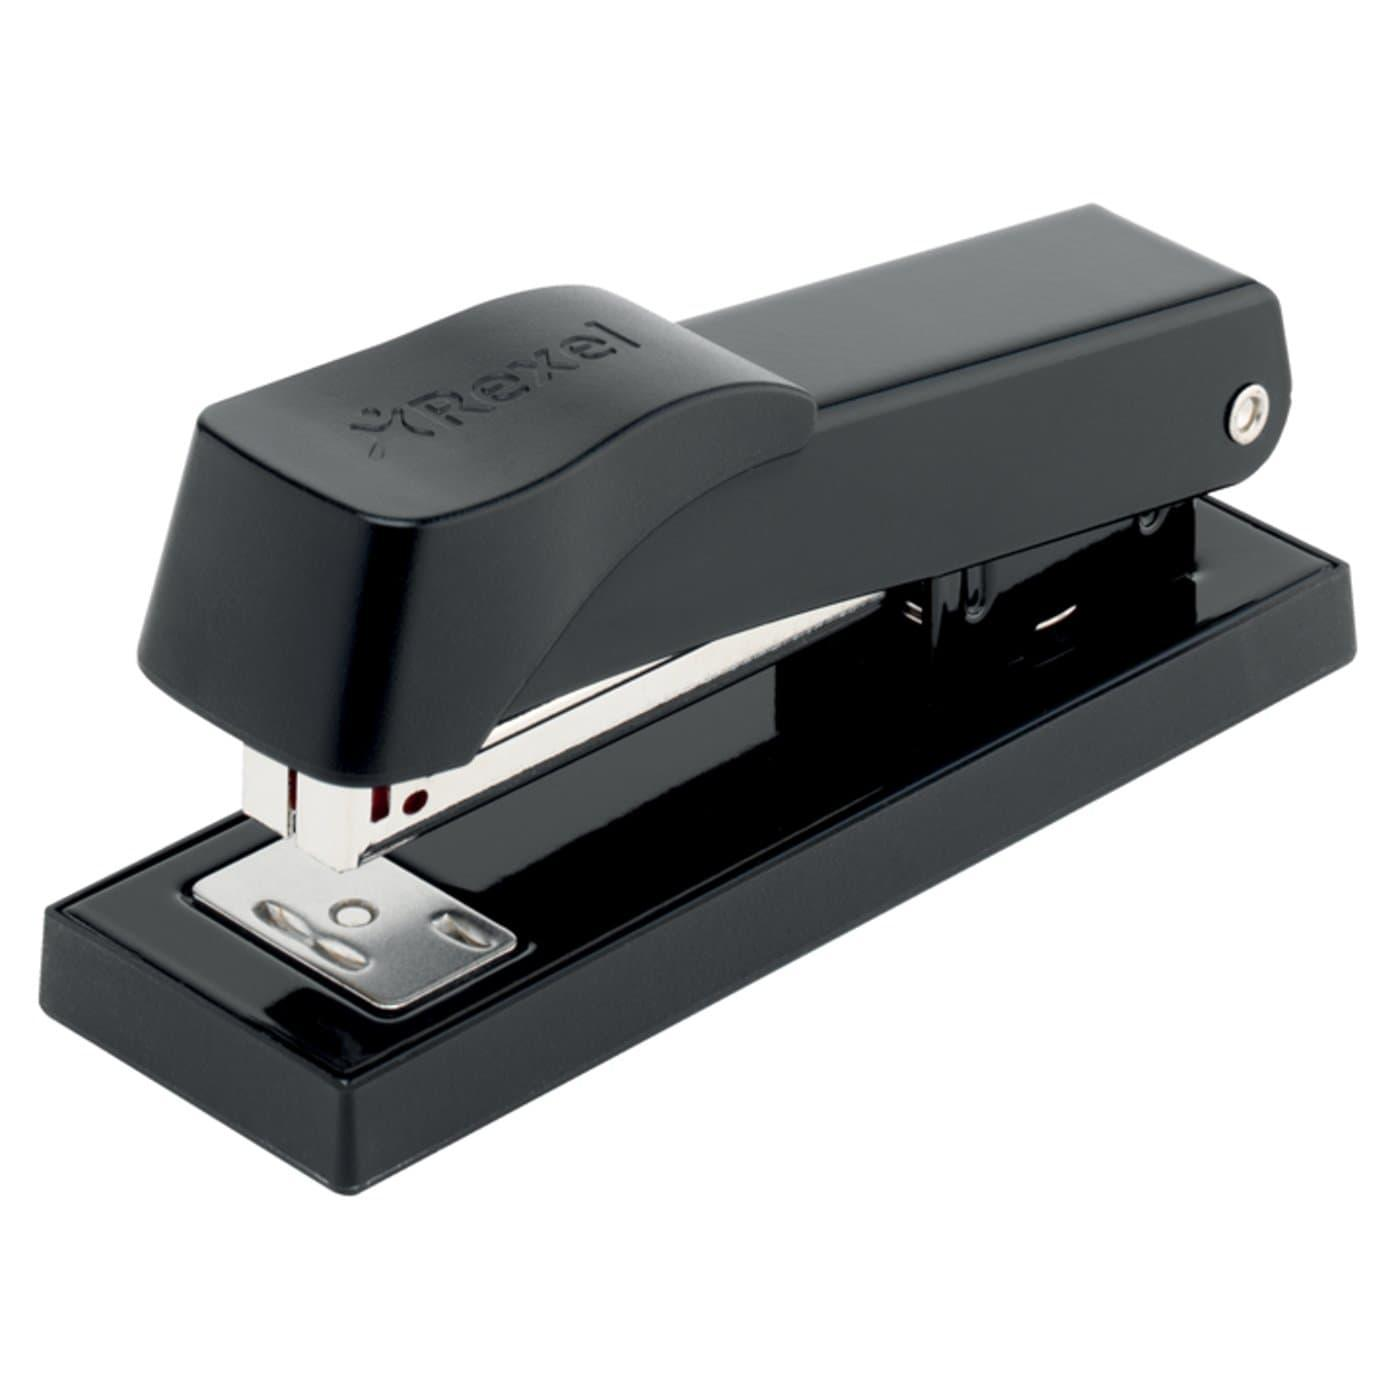Stapler: (0, 165, 1391, 1237)
